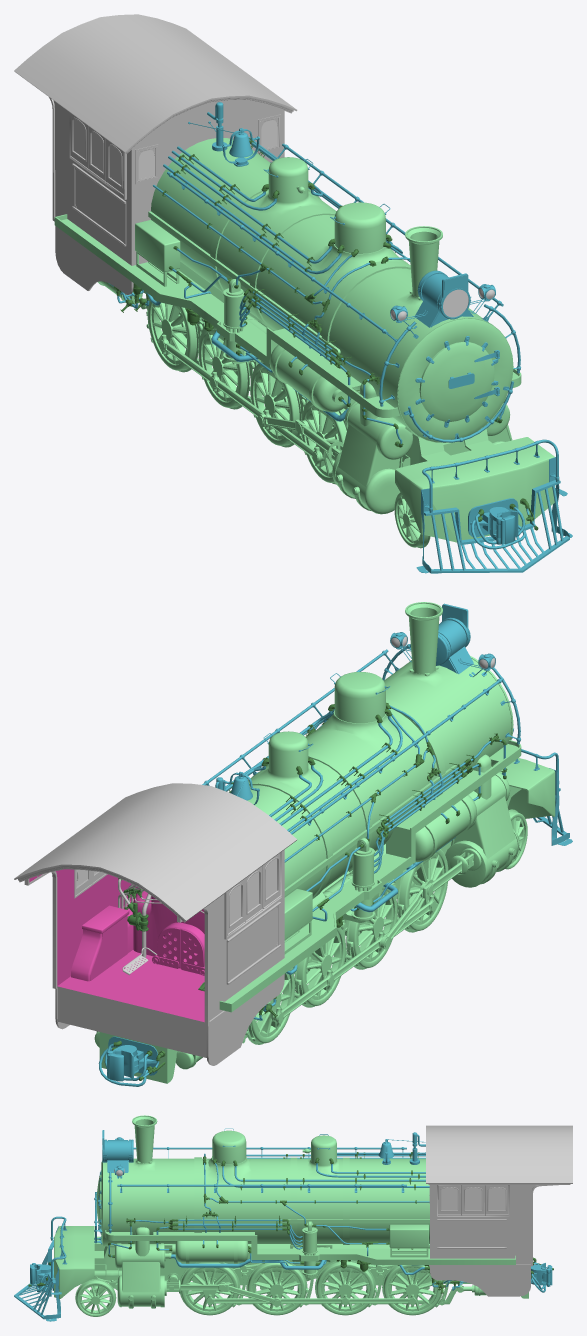
File: Steam_Locomotive.fbx
The picture shows the model from 3 angles, top to bottom: view 1: azimuth 30°, elevation 25°; view 2: azimuth 150°, elevation 25°; view 3: azimuth 270°, elevation 25°; orthographic projection. The views are drawn at different scales.
Parts seen in each view (by area): view 1: Steam_Locomotive, Steam_Locomotive_Lever_1_1; view 2: Steam_Locomotive, Steam_Locomotive_Lever_1_1; view 3: Steam_Locomotive, Steam_Locomotive_Lever_1_1, Steam_Locomotive_Lever_1.
Part boxes in pixels (x1=…): Steam_Locomotive: x1=14, y1=14, x2=572, y2=573; Steam_Locomotive_Lever_1_1: x1=159, y1=334, x2=320, y2=466; Steam_Locomotive: x1=14, y1=602, x2=572, y2=1086; Steam_Locomotive_Lever_1_1: x1=275, y1=895, x2=436, y2=1026; Steam_Locomotive: x1=14, y1=1115, x2=572, y2=1321; Steam_Locomotive_Lever_1_1: x1=206, y1=1294, x2=416, y2=1307; Steam_Locomotive_Lever_1: x1=220, y1=1282, x2=281, y2=1306.
Bounding box in the file's own units: 276 × 408 × 1143.
